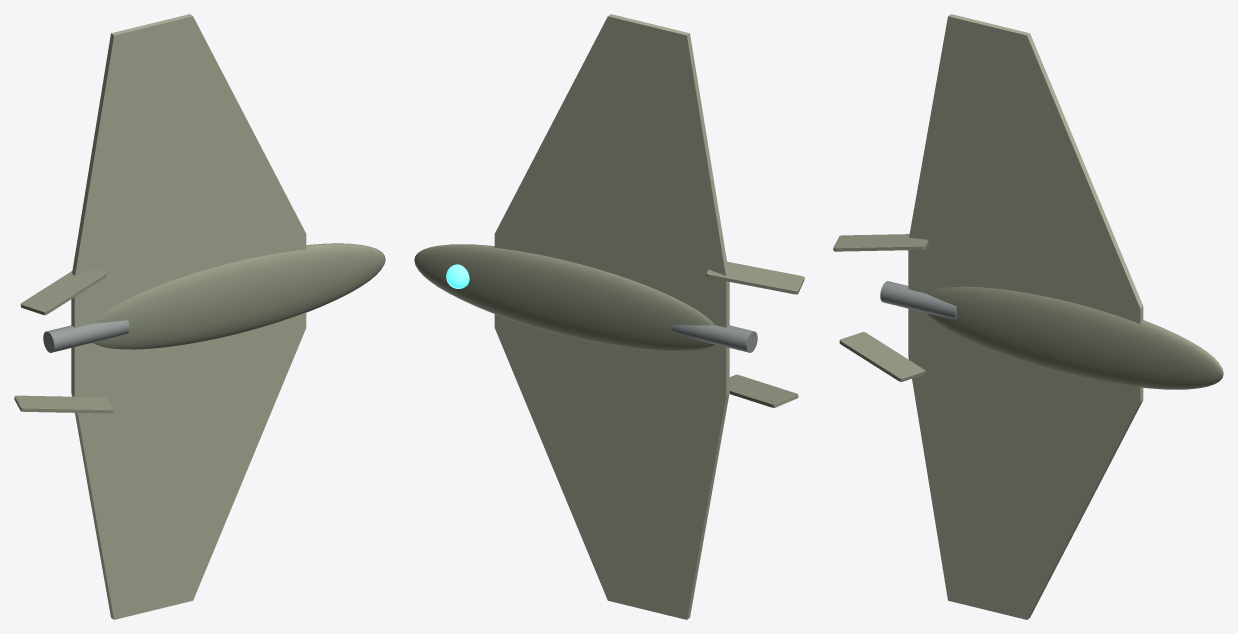
File: v-u22-vanguard-recon-drone-lod1.glb
The picture shows the model from 3 angles, left to right: view 1: azimuth 30°, elevation 25°; view 2: azimuth 150°, elevation 25°; view 3: azimuth 330°, elevation 25°; orthographic projection.
Parts seen in each view (by area): view 1: recon_drone_wing, recon_drone_spine, recon_drone_vtail_1, recon_engine_0, recon_drone_vtail_-1; view 2: recon_drone_wing, recon_drone_spine, recon_drone_vtail_1, recon_engine_0, recon_drone_vtail_-1; view 3: recon_drone_wing, recon_drone_spine, recon_drone_vtail_-1, recon_engine_0, recon_drone_vtail_1.
Part boxes in pixels (x1,y1,x2,y2): recon_drone_wing: (71, 14, 306, 619); recon_drone_spine: (92, 243, 385, 349); recon_drone_vtail_1: (20, 269, 106, 315); recon_engine_0: (43, 320, 129, 352); recon_drone_vtail_-1: (14, 395, 112, 413); recon_drone_wing: (494, 14, 729, 619); recon_drone_spine: (414, 244, 714, 351); recon_drone_vtail_1: (706, 261, 804, 294); recon_engine_0: (671, 325, 757, 352); recon_drone_vtail_-1: (729, 374, 798, 407); recon_drone_wing: (908, 14, 1143, 619); recon_drone_spine: (926, 286, 1223, 389); recon_drone_vtail_-1: (839, 332, 925, 381); recon_engine_0: (880, 281, 956, 319); recon_drone_vtail_1: (833, 234, 928, 251).
Size of what is drawn, in the model's own units: 7.26 by 10.82 by 1.23.
